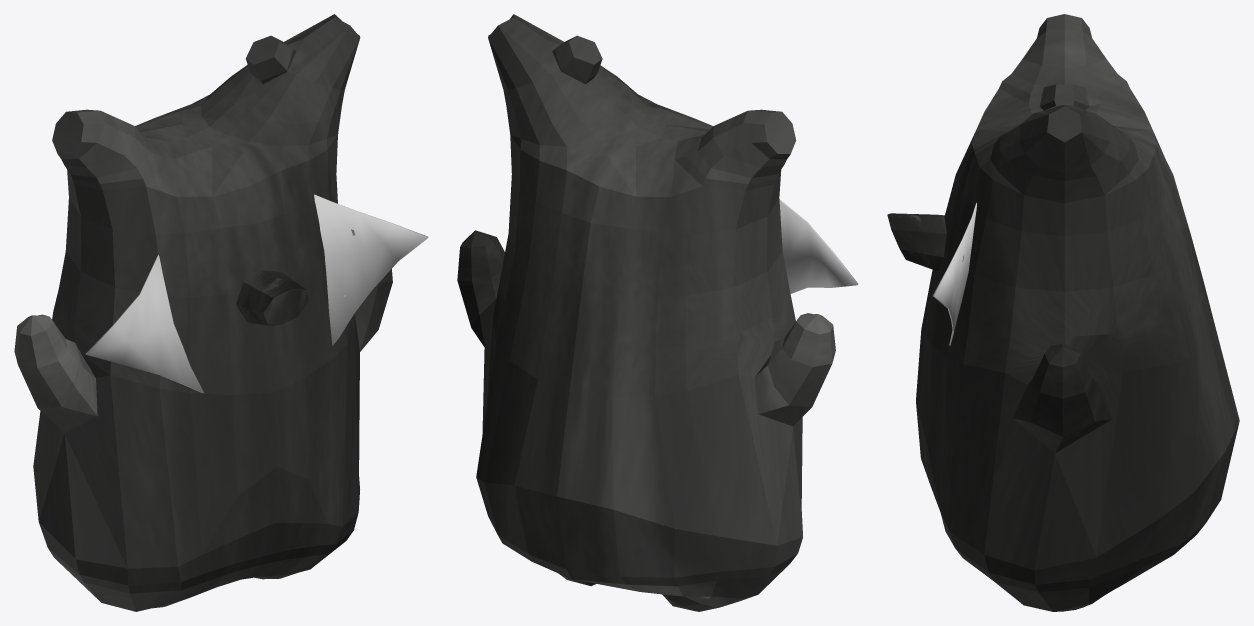
The model's file is frame_0061.obj.
3 views of the same model, side by side, from view 1: azimuth 30°, elevation 25°; view 2: azimuth 150°, elevation 25°; view 3: azimuth 270°, elevation 25° (orthographic).
Parts seen in each view (by area): view 1: korok, leaf, nose; view 2: korok, leaf; view 3: korok, nose, leaf.
Part boxes in pixels (x1,y1,x2,y2): korok: (14,14,392,611); leaf: (85,194,428,393); nose: (236,270,308,325); korok: (457,14,835,611); leaf: (779,199,858,293); korok: (916,14,1239,611); nose: (887,213,946,271); leaf: (932,202,976,345).
Bounding box in the file's own units: 1.53 × 2.13 × 1.27.
